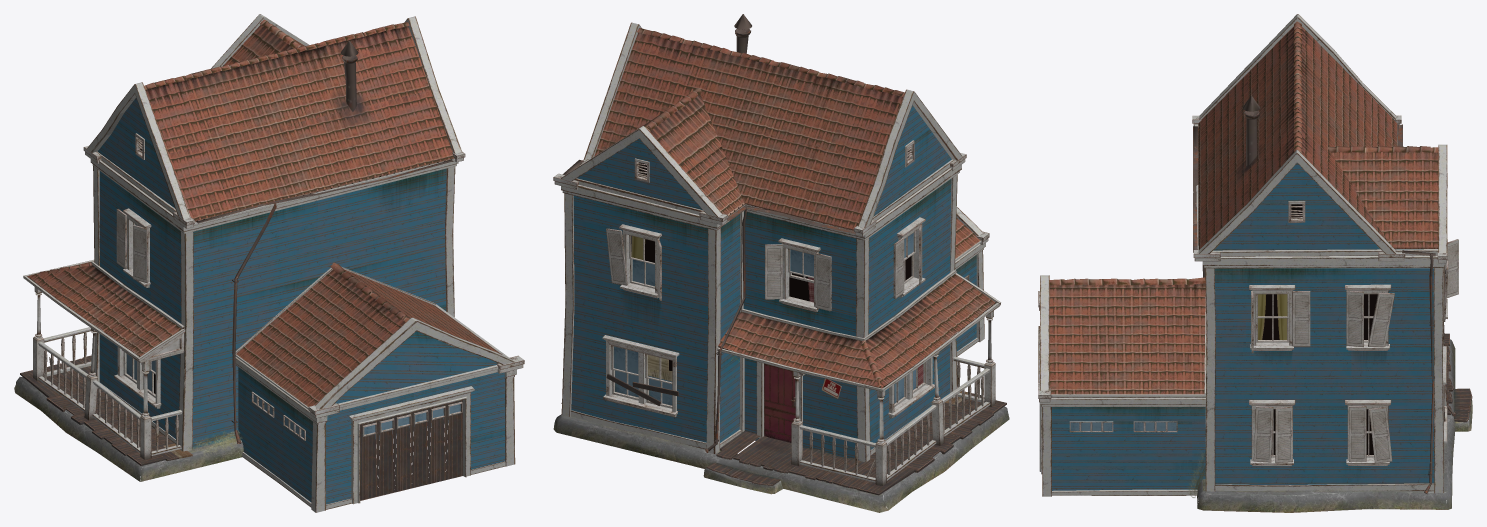
Rendered from casa_p1.glb.
3 views of the same model, side by side, from view 1: azimuth 30°, elevation 25°; view 2: azimuth 150°, elevation 25°; view 3: azimuth 270°, elevation 25° (orthographic).
Visible parts, largest first — view 1: ext; view 2: ext; view 3: ext.
Part boxes in pixels (x1,y1,x2,y2): ext: (14,14,524,512); ext: (553,14,1009,512); ext: (1038,14,1472,512).
Size of what is drawn, in the model's own units: 8.21 by 8.48 by 8.94.
2 materials, 2 textured.
